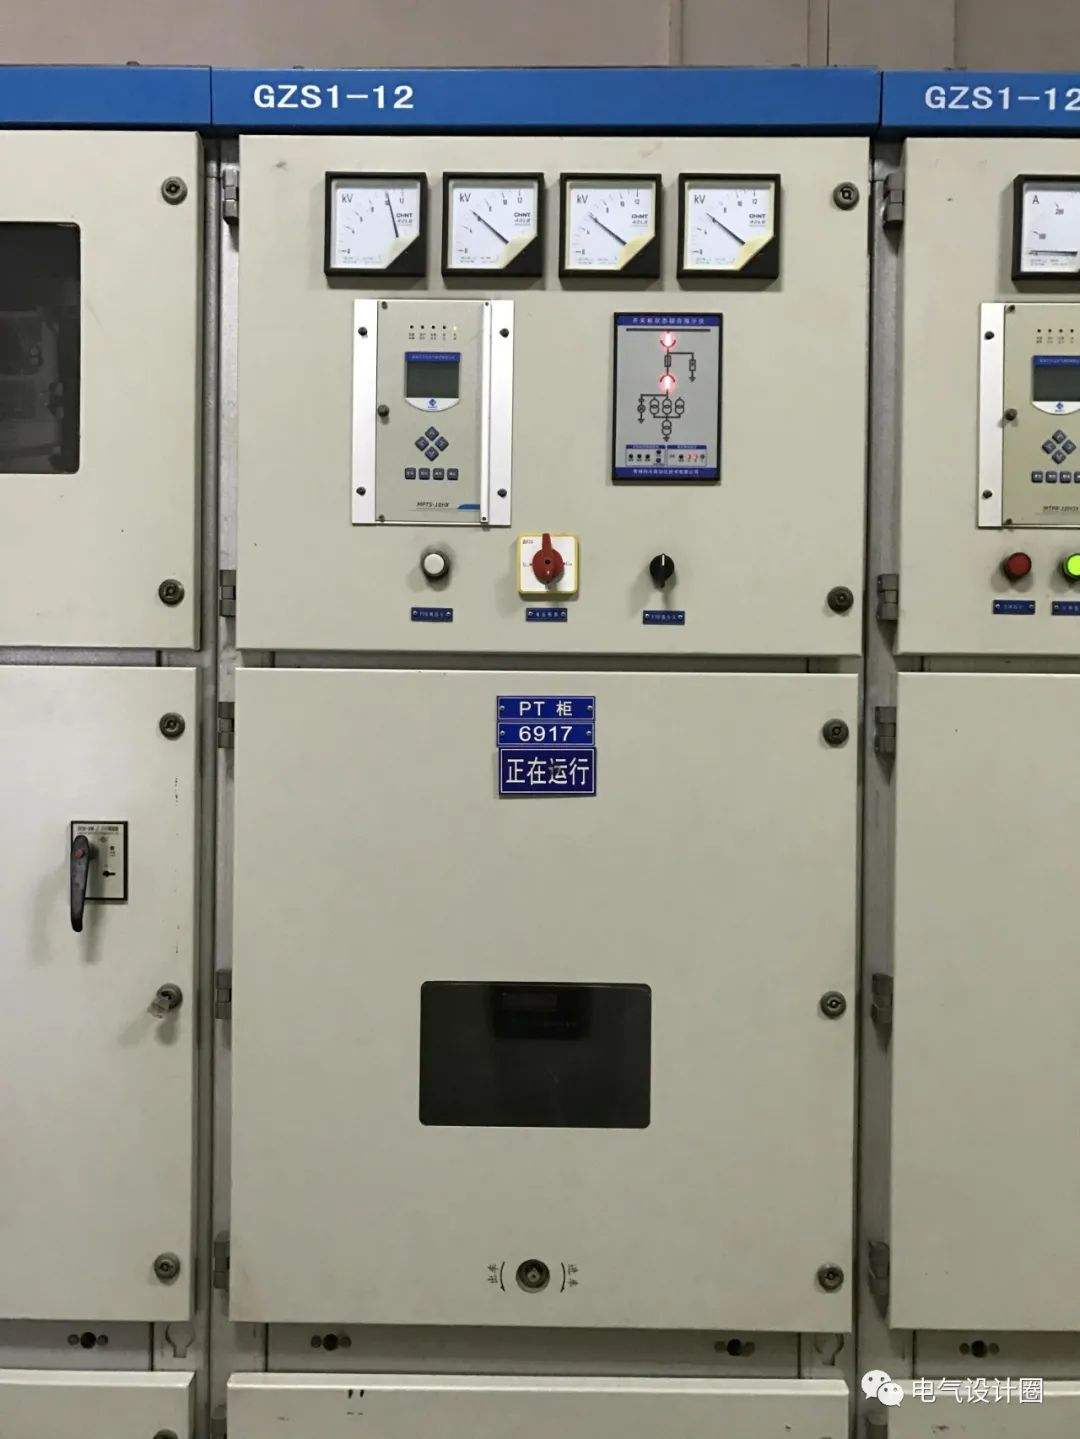pointer: (562, 170, 660, 283), (677, 170, 773, 276), (326, 171, 422, 273), (444, 178, 542, 272), (1019, 175, 1080, 273)
